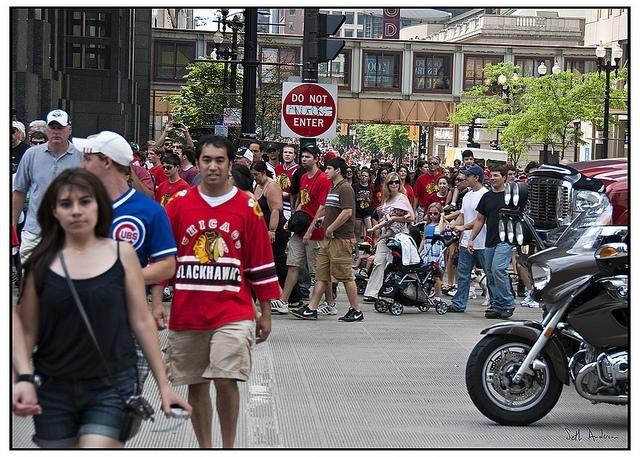car: (498, 156, 629, 248)
motorcycle: (464, 245, 632, 425)
